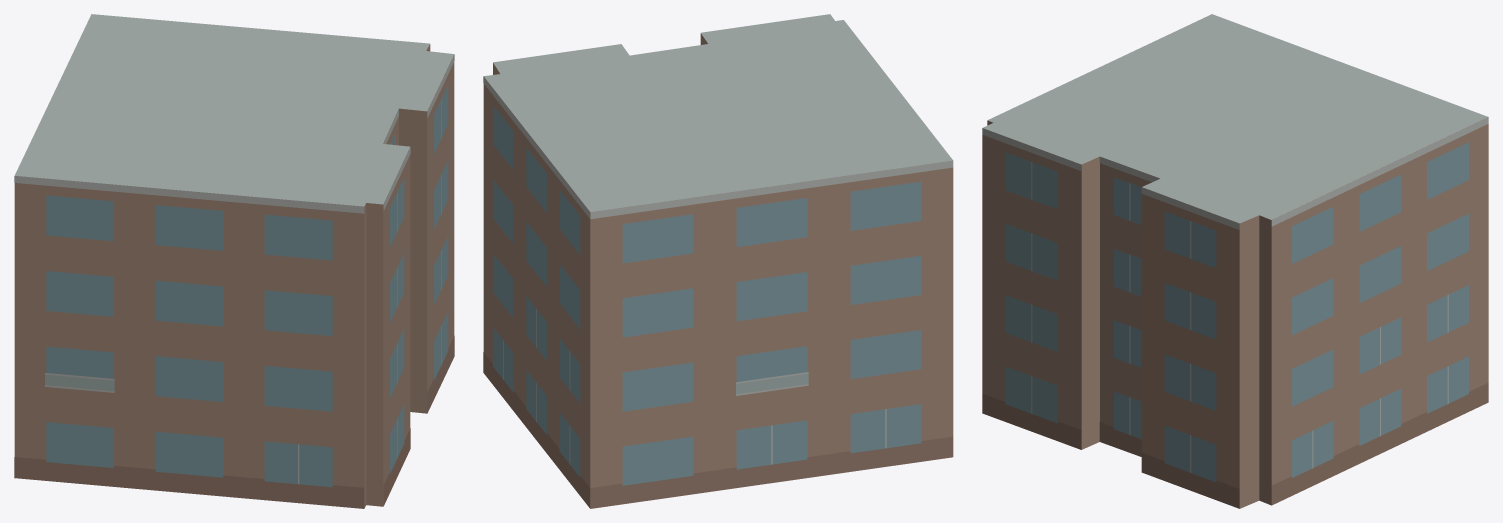
The model's file is survey-upis-32533587.glb.
3 renders of one model, left to right at view 1: azimuth 30°, elevation 25°; view 2: azimuth 150°, elevation 25°; view 3: azimuth 270°, elevation 25°, orthographic. The views are drawn at different scales.
Visible parts, largest first — view 1: survey-upis-32533587.tmp; view 2: survey-upis-32533587.tmp; view 3: survey-upis-32533587.tmp.
Boxes of the visible parts, bbox=[...] form: survey-upis-32533587.tmp: bbox=[14, 14, 454, 508]; survey-upis-32533587.tmp: bbox=[483, 14, 953, 508]; survey-upis-32533587.tmp: bbox=[982, 14, 1488, 508].
Size of the model in its own units: 16.38 by 10.4 by 16.73.
